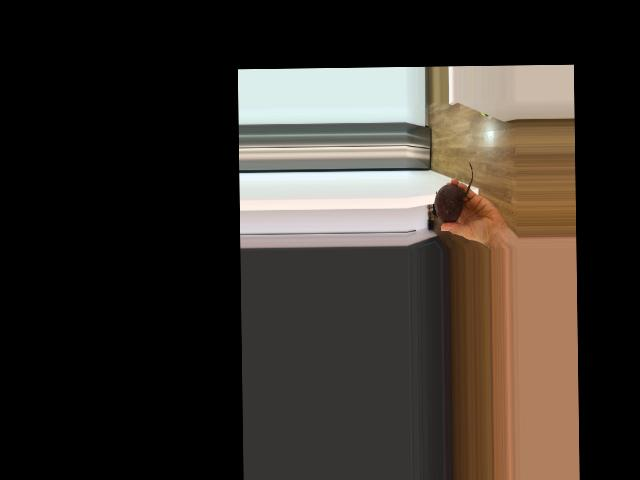beet: (432, 161, 473, 222)
